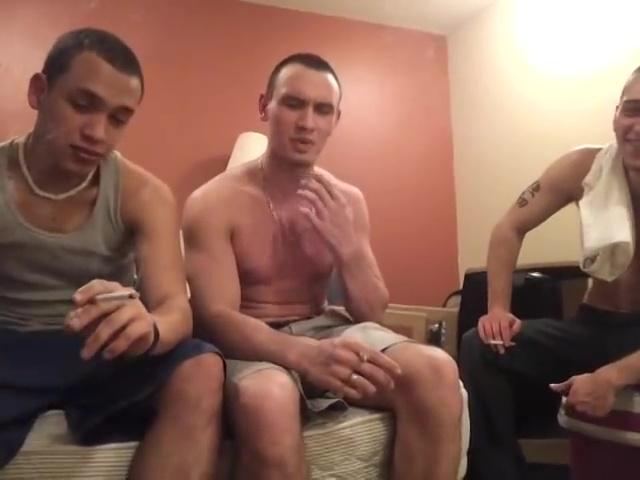cigarette: (87, 289, 141, 304), (485, 338, 520, 348), (359, 351, 372, 364)
